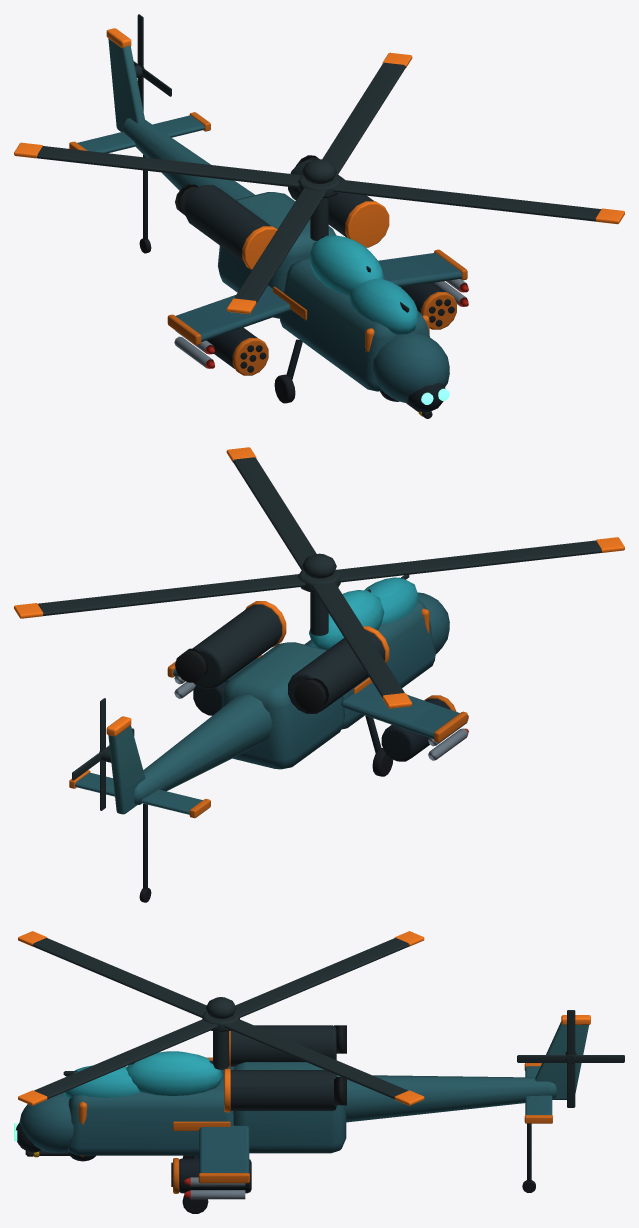
The model's file is skyWraith.glb.
3 views of the same model, one above another, from view 1: azimuth 30°, elevation 25°; view 2: azimuth 150°, elevation 25°; view 3: azimuth 270°, elevation 25° (orthographic). The views are drawn at different scales.
Parts seen in each view (by area): view 1: Forward fuselage, Rotor hub, Rocket pod, Rocket pod.001, Tail rotor hub; view 2: Forward fuselage, Rotor hub, Rocket pod, Tail rotor hub, Rocket pod.001; view 3: Forward fuselage, Rotor hub, Tail rotor hub, Rocket pod.001.
Boxes of the visible parts, bbox=[...] form: Forward fuselage: bbox=[69, 28, 468, 412]; Rotor hub: bbox=[14, 52, 624, 314]; Rocket pod: bbox=[207, 327, 268, 375]; Rocket pod.001: bbox=[401, 282, 456, 329]; Tail rotor hub: bbox=[133, 14, 171, 111]; Forward fuselage: bbox=[69, 574, 468, 902]; Rotor hub: bbox=[14, 447, 624, 708]; Rocket pod: bbox=[381, 695, 456, 761]; Tail rotor hub: bbox=[72, 698, 134, 810]; Rocket pod.001: bbox=[193, 655, 261, 715]; Forward fuselage: bbox=[14, 1015, 590, 1213]; Rotor hub: bbox=[18, 931, 424, 1105]; Tail rotor hub: bbox=[517, 1010, 624, 1107]; Rocket pod.001: bbox=[171, 1158, 251, 1193].
Size of the model in its own units: 6.33 by 3.32 by 9.52.
11 materials, 9 textured.
